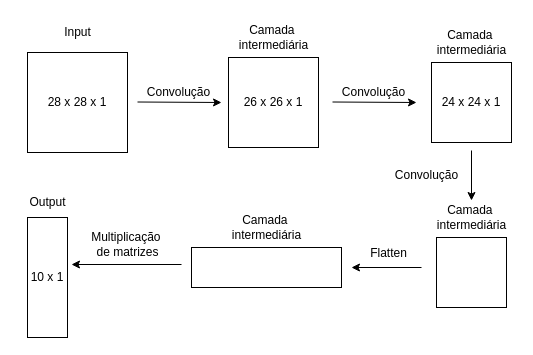
This 533x355 diagram has some shape labels left out. Each missing label, with the centre of its shape:
"1 x 484" belongs at point (266, 267).
"22 x 22 x 1" belongs at point (471, 272).
